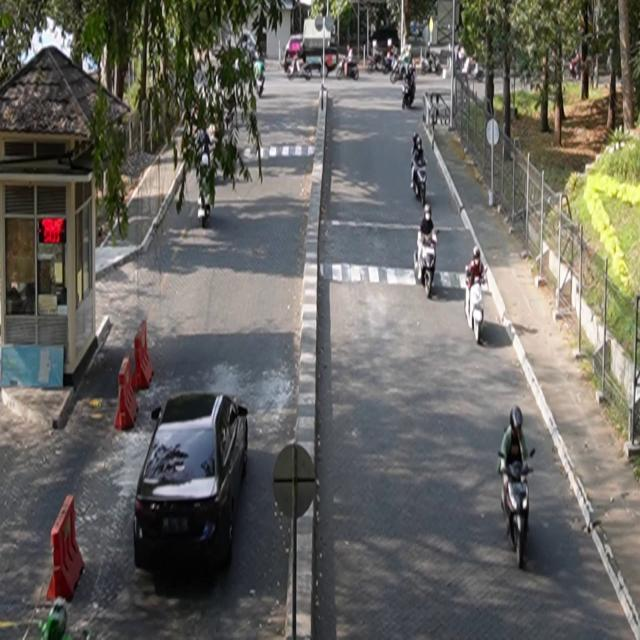car: (134, 391, 249, 575)
